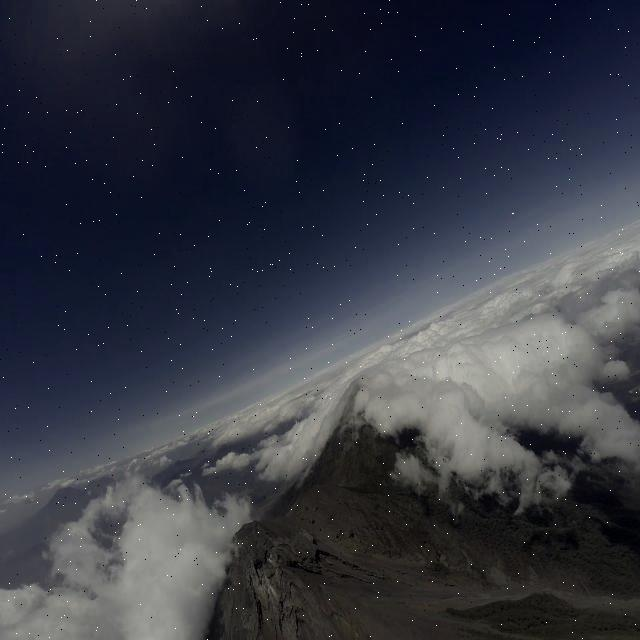Summit: (196, 495, 354, 640)
